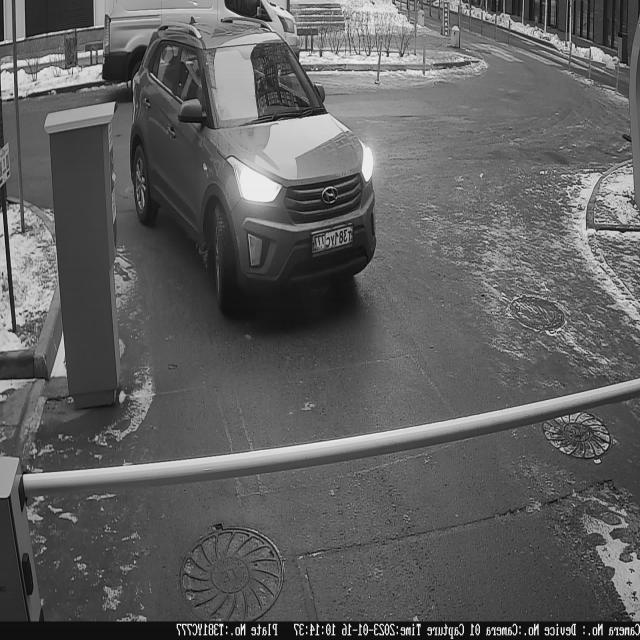car-plate-numbers: (310, 220, 359, 260)
